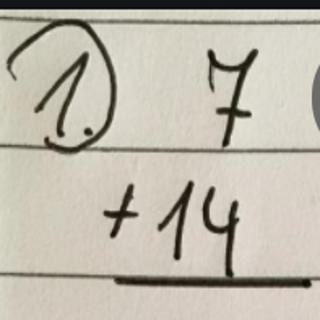.: (79, 122, 96, 145)
1: (33, 49, 86, 138), (160, 177, 196, 261)
4: (204, 182, 241, 277)
7: (208, 44, 263, 152)
